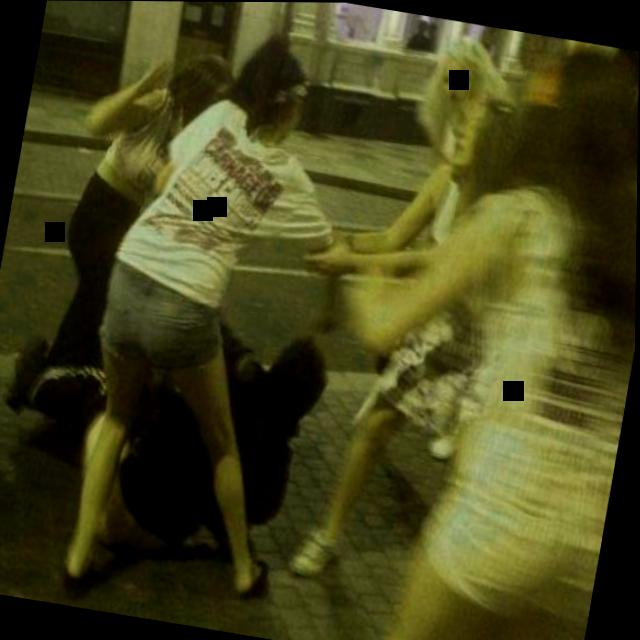Fall-Detected: (0, 269, 347, 586)
